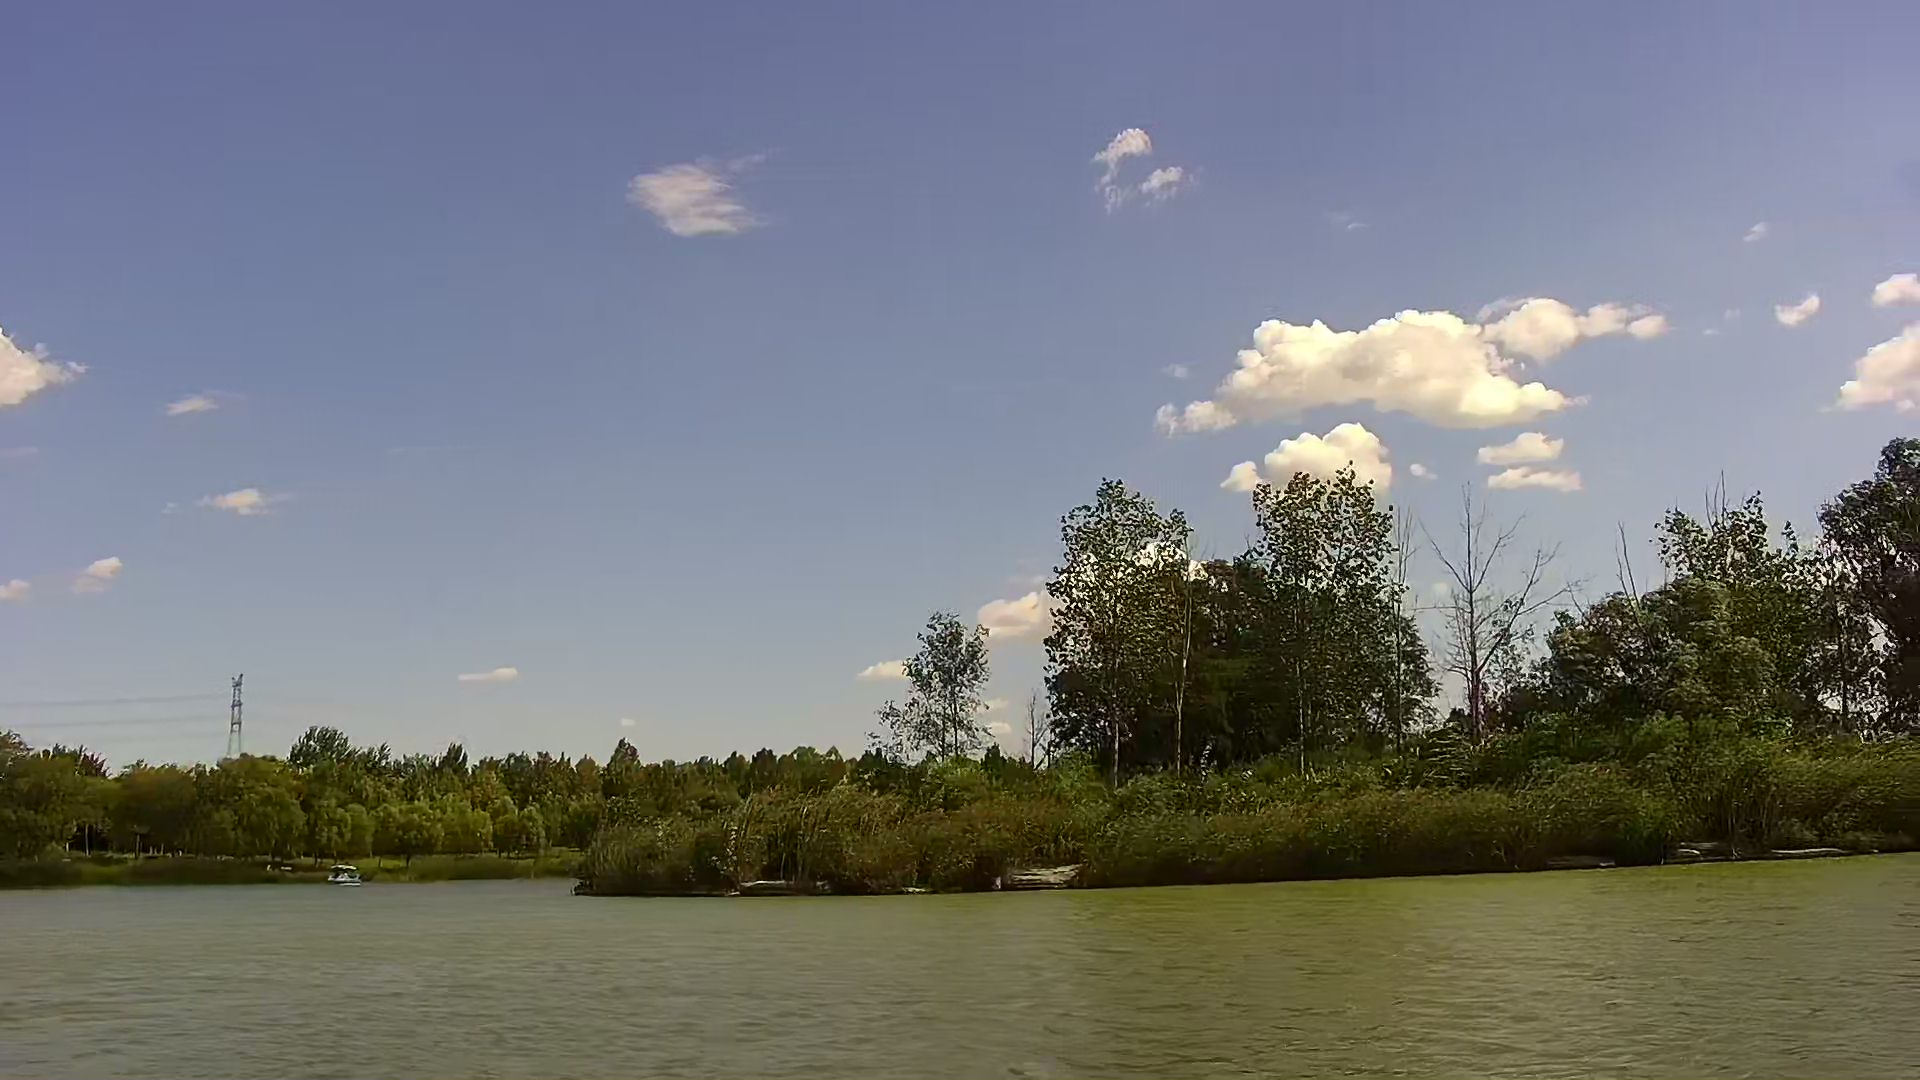boat: (328, 864, 357, 884)
rock: (1004, 865, 1087, 887), (729, 880, 812, 897)
